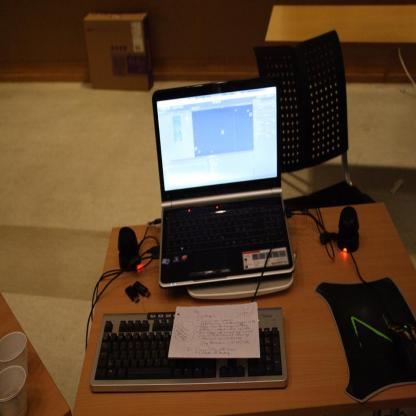board: (151, 73, 297, 288), (0, 328, 27, 380), (0, 365, 27, 416)
